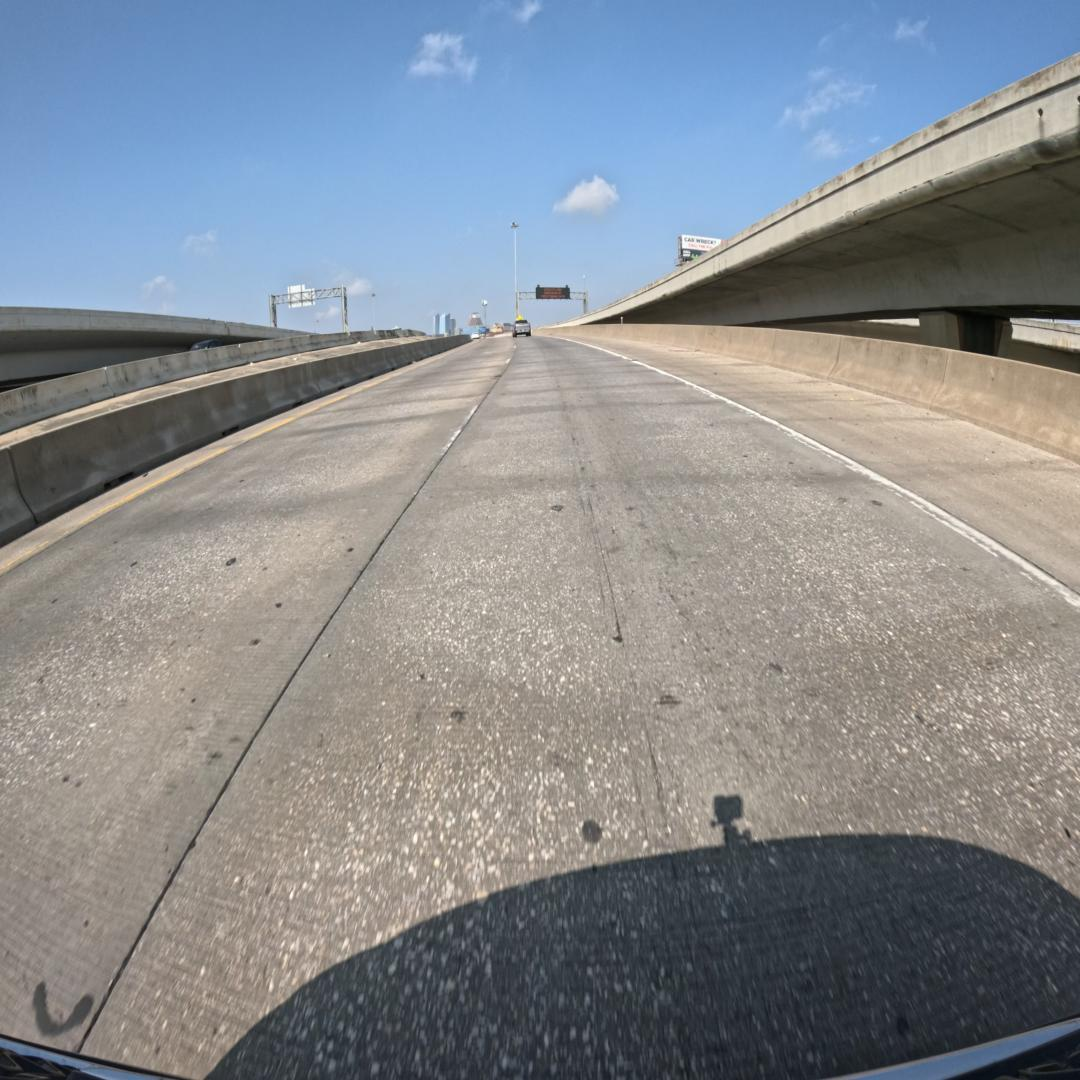lane0: (81, 337, 1080, 1077)
lane1: (0, 339, 513, 1048)
